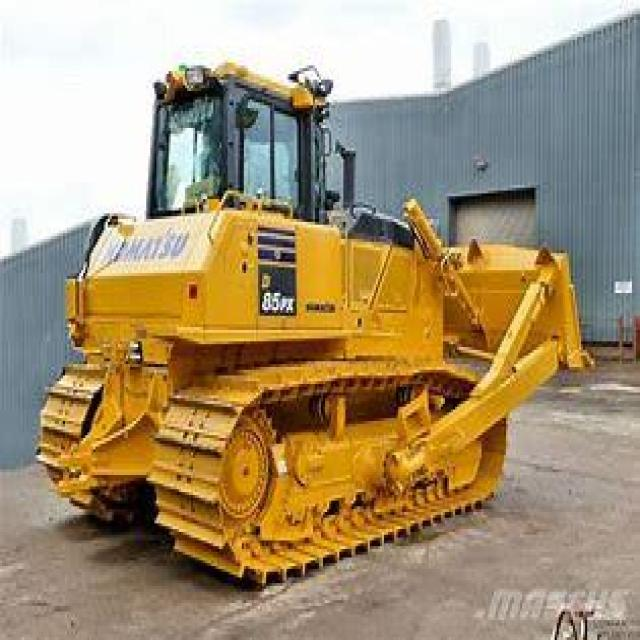buldozerpayloadergrader: (28, 34, 596, 589)
